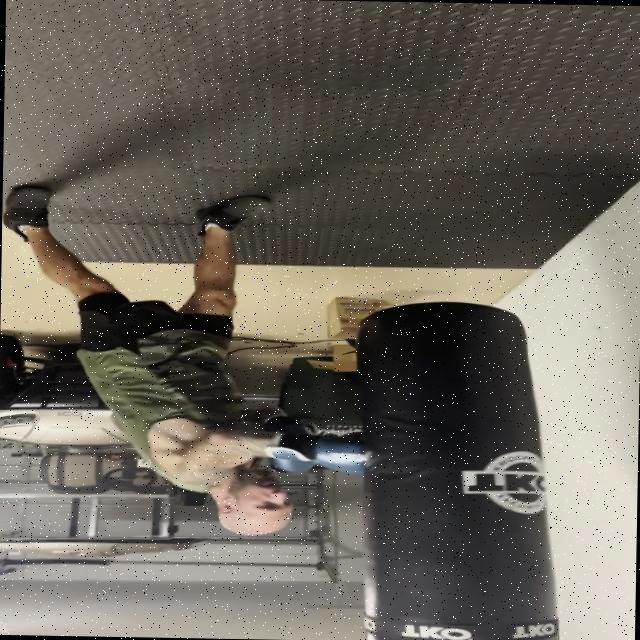punch: (107, 392, 400, 552)
